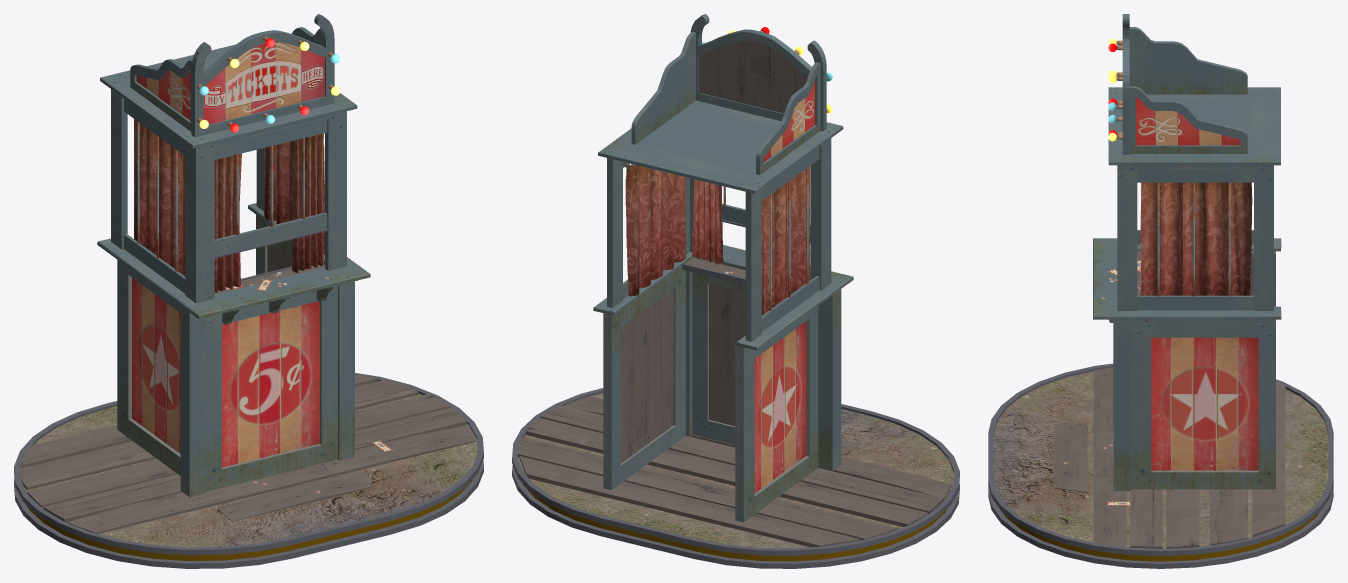
Rendered from Ticket Booth.fbx.
The picture shows the model from 3 angles, left to right: view 1: azimuth 30°, elevation 25°; view 2: azimuth 150°, elevation 25°; view 3: azimuth 270°, elevation 25°; orthographic projection. The views are drawn at different scales.
Visible parts, largest first — view 1: pCylinder11, pCube1, pCube12, pCube26, pCube31, pCube33, pTorus19, pCube3, pCube29, pCube32, pCube34, pCube35 (+16 smaller); view 2: pCylinder11, pCube30, pCube31, pCube20, pCube26, pCube12, pCube1, pTorus20, pCube36, pCube35, pCube34, pTorus19 (+12 smaller); view 3: pCylinder11, pCube30, pTorus20, pCube20, pCube12, pCube25, pCube67, pCube33, pCube3, pCube2, pCube36, pCube37 (+7 smaller).
Part boxes in pixels (bbox=[...]): pCylinder11: bbox=[14, 373, 483, 568]; pCube1: bbox=[205, 285, 337, 491]; pCube12: bbox=[111, 89, 346, 303]; pCube26: bbox=[191, 14, 334, 137]; pCube31: bbox=[117, 260, 180, 475]; pCube33: bbox=[67, 425, 475, 533]; pTorus19: bbox=[134, 119, 185, 276]; pCube3: bbox=[97, 203, 370, 318]; pCube29: bbox=[44, 407, 466, 522]; pCube32: bbox=[180, 306, 205, 497]; pCube34: bbox=[27, 394, 450, 508]; pCube35: bbox=[20, 379, 418, 489]; pCylinder11: bbox=[512, 388, 959, 568]; pCube30: bbox=[603, 266, 685, 489]; pCube31: bbox=[735, 306, 818, 522]; pCube20: bbox=[598, 100, 843, 193]; pCube26: bbox=[690, 14, 826, 131]; pCube12: bbox=[607, 138, 831, 341]; pCube1: bbox=[692, 272, 745, 444]; pTorus20: bbox=[623, 162, 685, 296]; pCube36: bbox=[519, 456, 859, 547]; pCube35: bbox=[517, 437, 896, 540]; pCube34: bbox=[526, 417, 927, 526]; pTorus19: bbox=[761, 166, 809, 315]; pCylinder11: bbox=[988, 363, 1333, 568]; pCube30: bbox=[1130, 319, 1275, 489]; pTorus20: bbox=[1140, 182, 1252, 295]; pCube20: bbox=[1108, 87, 1280, 165]; pCube12: bbox=[1117, 165, 1273, 310]; pCube25: bbox=[1129, 86, 1247, 153]; pCube67: bbox=[1129, 27, 1247, 94]; pCube33: bbox=[1093, 367, 1126, 547]; pCube3: bbox=[1093, 238, 1281, 319]; pCube2: bbox=[1113, 319, 1130, 490]; pCube36: bbox=[1252, 381, 1285, 537]; pCube37: bbox=[1054, 424, 1087, 492].
Bounding box in the file's own units: 8.23 × 8.67 × 6.3.
10 materials, 8 textured.
